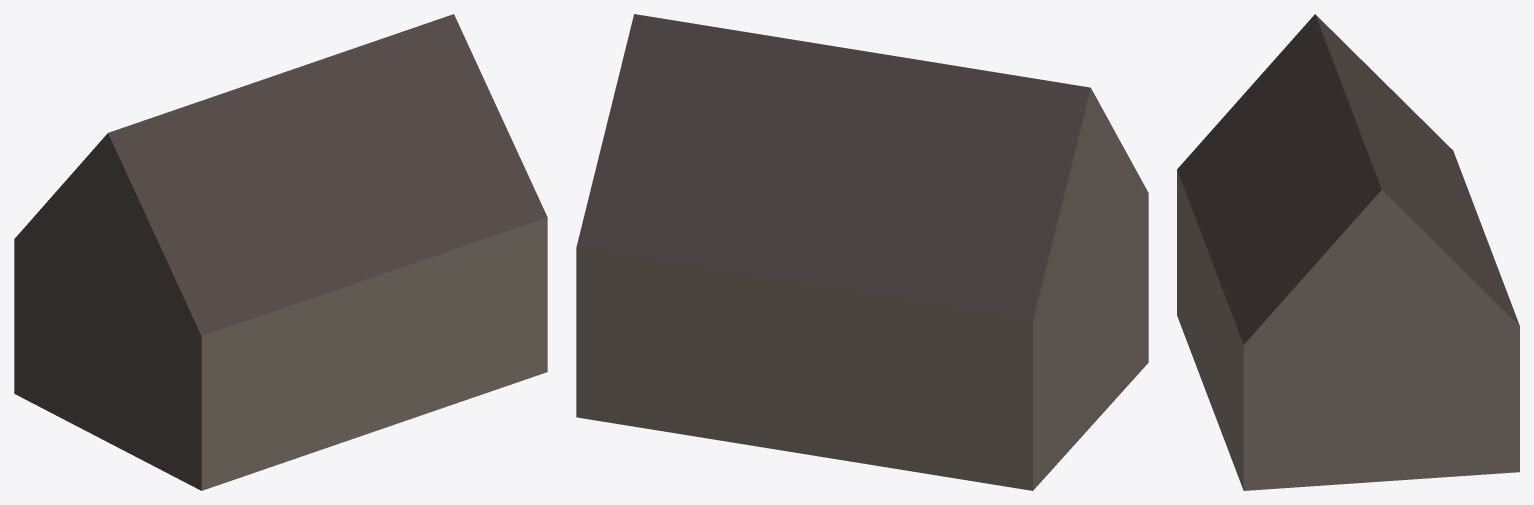
3 renders of one model, left to right at view 1: azimuth 30°, elevation 25°; view 2: azimuth 150°, elevation 25°; view 3: azimuth 270°, elevation 25°, orthographic. The views are drawn at different scales.
Visible parts, largest first — view 1: HP-w428179917; view 2: HP-w428179917; view 3: HP-w428179917.
Part boxes in pixels (left/top/right/bottom): HP-w428179917: left=14, top=14, right=547, bottom=490; HP-w428179917: left=576, top=14, right=1148, bottom=490; HP-w428179917: left=1177, top=14, right=1519, bottom=490.
Bounding box in the file's own units: 8.57 × 6 × 6.39.
